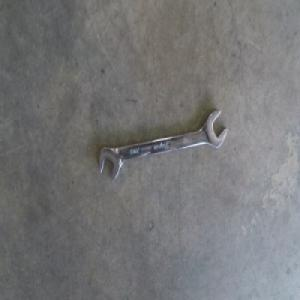Wrench: (98, 109, 229, 184)
